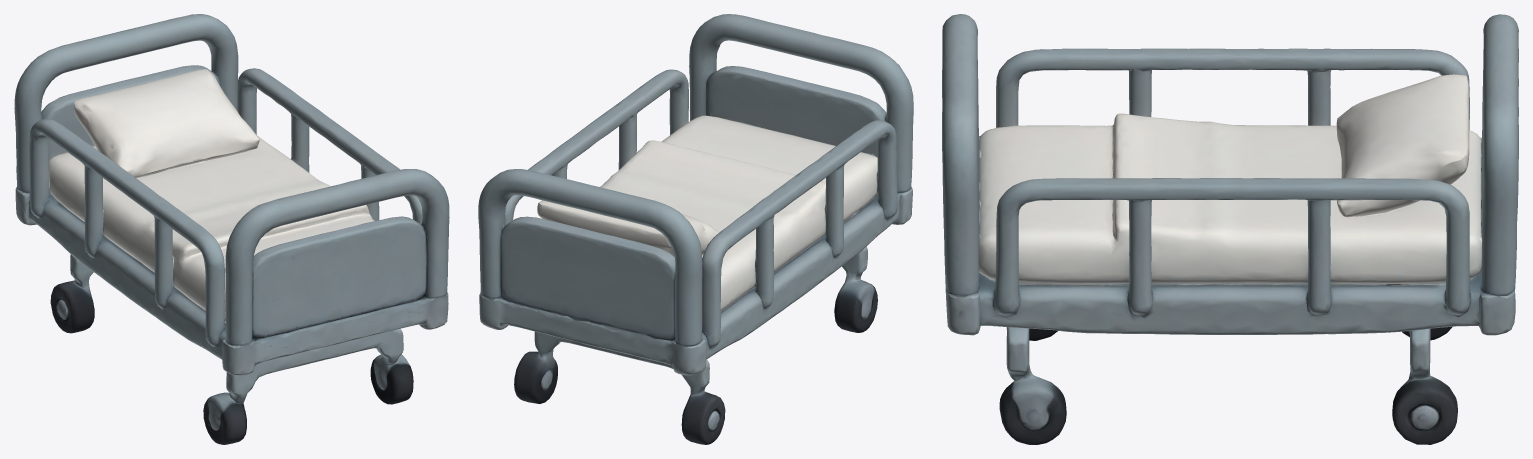
Rendered from hospital_bed.glb.
3 renders of one model, left to right at view 1: azimuth 30°, elevation 25°; view 2: azimuth 150°, elevation 25°; view 3: azimuth 270°, elevation 25°, orthographic. The views are drawn at different scales.
Visible parts, largest first — view 1: Mesh; view 2: Mesh; view 3: Mesh.
Boxes of the visible parts, bbox=[...] form: Mesh: bbox=[14, 14, 449, 444]; Mesh: bbox=[478, 14, 913, 444]; Mesh: bbox=[942, 14, 1518, 444].
Bounding box in the file's own units: 1.1 × 1.19 × 1.9.
Materials: 1 (1 with a texture image).
